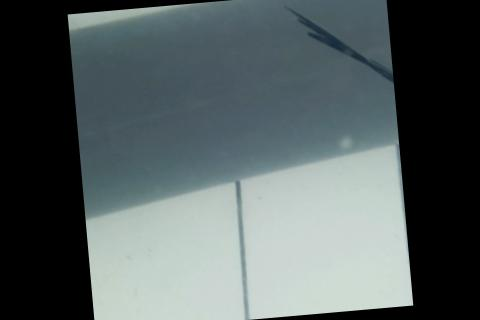keretakan: (282, 0, 395, 109)
